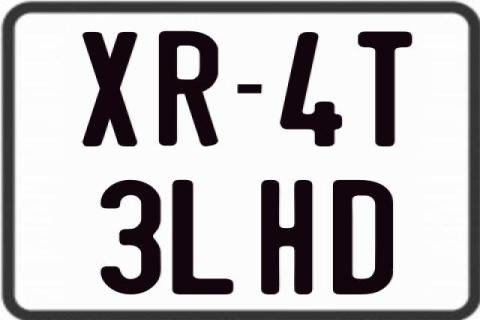0: (100, 180, 165, 298), (278, 31, 342, 147)
D: (332, 180, 396, 298)
H: (261, 180, 318, 297)
L: (170, 179, 236, 297)
R: (159, 31, 219, 147)
T: (355, 29, 413, 145)
X: (82, 31, 141, 151)
